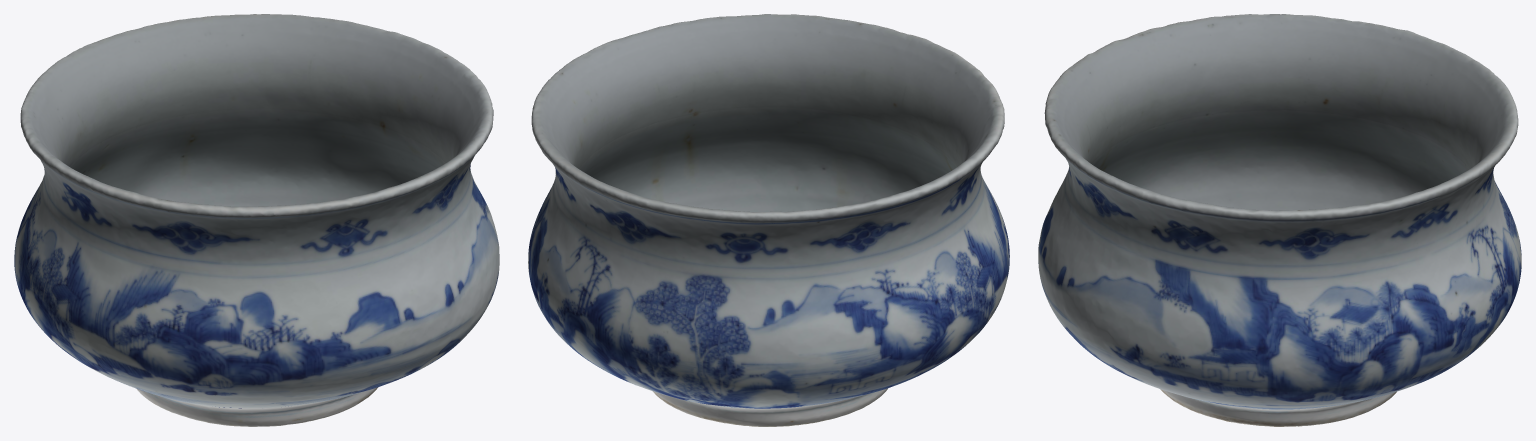
File: incense-burner.glb
The picture shows the model from 3 angles, left to right: view 1: azimuth 30°, elevation 25°; view 2: azimuth 150°, elevation 25°; view 3: azimuth 270°, elevation 25°; orthographic projection.
Bounding box in the file's own units: 0.2343 × 0.1423 × 0.2335.
Materials: 1 (1 with a texture image).
